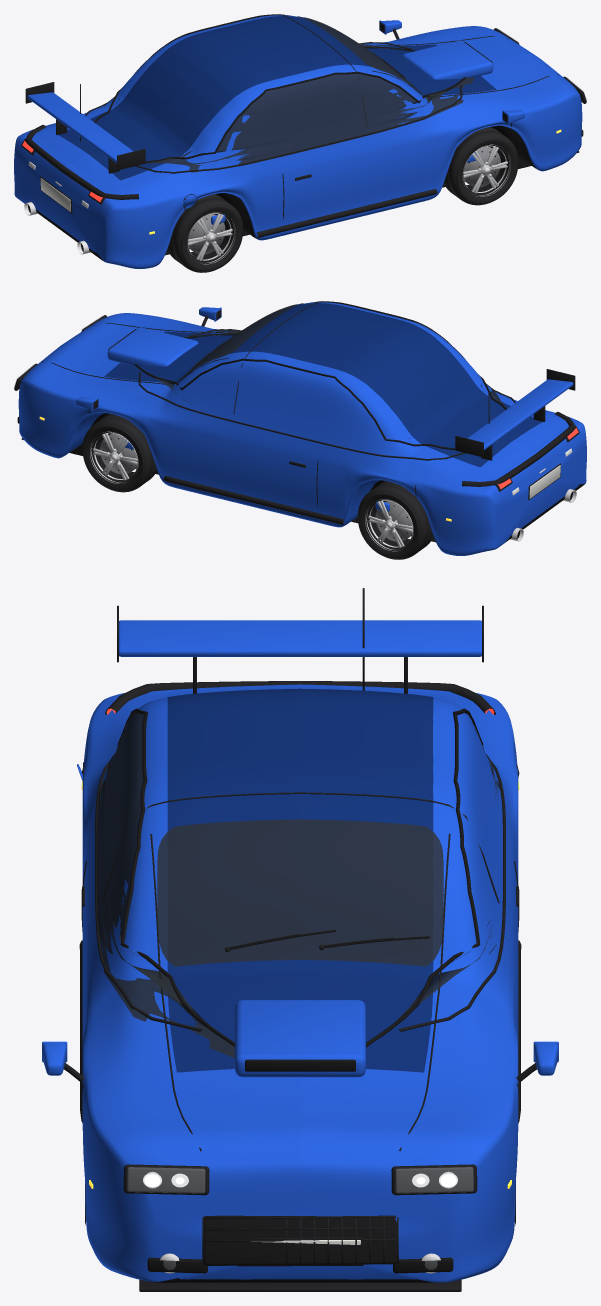
3 renders of one model, top to bottom at view 1: azimuth 30°, elevation 25°; view 2: azimuth 150°, elevation 25°; view 3: azimuth 270°, elevation 25°, orthographic. The views are drawn at different scales.
Parts seen in each view (by area): view 1: body, glass_side_R, wheel_RR_tyre, wheel_FR_tyre, bonnet_scoop, wing, side_skirt, glass_screen_0, tail_housing, seal_R, belt_trim, wheel_FR_disc (+6 smaller); view 2: body, wheel_RL_tyre, wheel_FL_tyre, bonnet_scoop, wing, side_skirt.001, glass_screen_0, tail_housing, seal_L, belt_trim.001, wheel_FL_disc, wheel_RL_disc (+5 smaller); view 3: body, glass_screen_0, wing, glass_side_R, bonnet_scoop, grille_back, splitter, tail_housing, head_housing.001, head_housing, seal_L, seal_R (+6 smaller).
Part boxes in pixels (x1,y1,x2,y2): body: (14,15,582,268); glass_side_R: (145,73,474,172); wheel_RR_tyre: (167,194,243,272); wheel_FR_tyre: (444,127,518,205); bonnet_scoop: (402,40,493,79); wing: (27,92,133,163); side_skirt: (256,189,437,238); glass_screen_0: (303,17,420,92); tail_housing: (25,124,138,199); seal_R: (145,71,466,162); belt_trim: (135,85,462,173); wheel_FR_disc: (463,146,500,187); body: (18,302,586,555); wheel_RL_tyre: (357,481,433,559); wheel_FL_tyre: (82,414,156,492); bonnet_scoop: (107,327,198,366); wing: (467,379,573,450); side_skirt.001: (163,476,344,525); glass_screen_0: (180,304,297,379); tail_housing: (462,411,575,486); seal_L: (134,358,455,449); belt_trim.001: (138,372,465,460); wheel_FL_disc: (100,433,137,474); wheel_RL_disc: (375,501,412,541); body: (82,684,518,1282); glass_screen_0: (157,819,443,966); wing: (119,620,481,656); glass_side_R: (96,712,234,1058); bonnet_scoop: (235,1000,365,1077); grille_back: (203,1215,397,1265); splitter: (139,1279,461,1291); tail_housing: (105,681,495,714); head_housing.001: (391,1164,477,1195); head_housing: (123,1164,209,1195); seal_L: (366,708,483,1047); seal_R: (117,708,234,1046).
Size of the model in its own units: 4.56 by 1.43 by 2.05.
